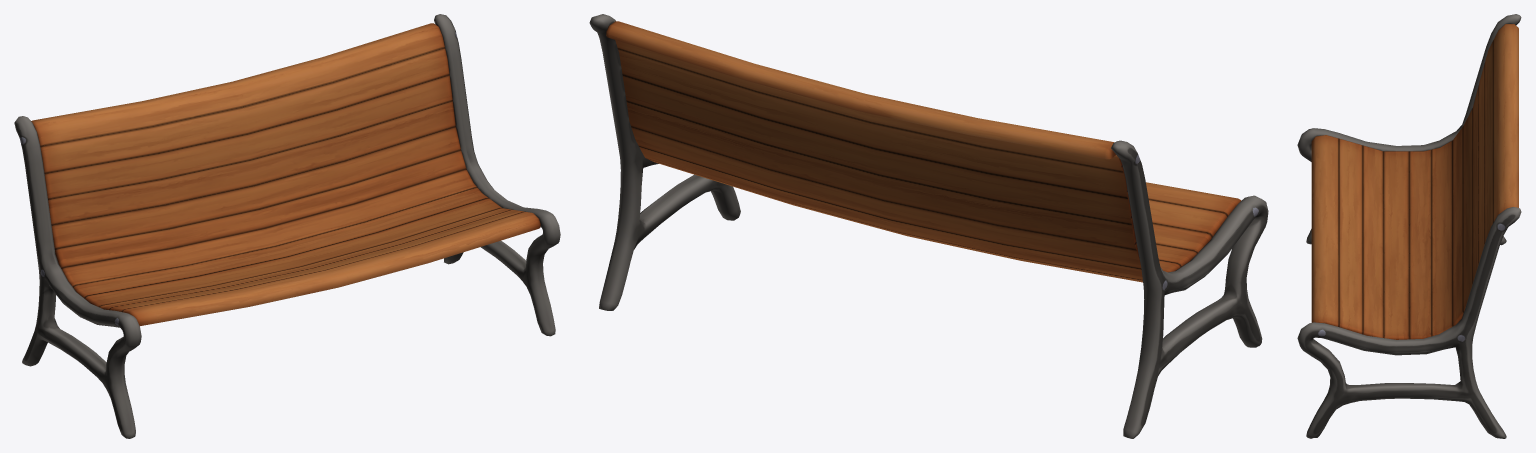
Rendered from StreetBench01.FBX.
The picture shows the model from 3 angles, left to right: view 1: azimuth 30°, elevation 25°; view 2: azimuth 150°, elevation 25°; view 3: azimuth 270°, elevation 25°; orthographic projection. The views are drawn at different scales.
Parts seen in each view (by area): view 1: StreetBench01; view 2: StreetBench01; view 3: StreetBench01.
Part boxes in pixels (left/top/right/bottom): StreetBench01: left=14, top=14, right=560, bottom=438; StreetBench01: left=589, top=14, right=1268, bottom=438; StreetBench01: left=1297, top=14, right=1521, bottom=438.
Size of what is drawn, in the model's own units: 2.66 by 1.42 by 1.25.
